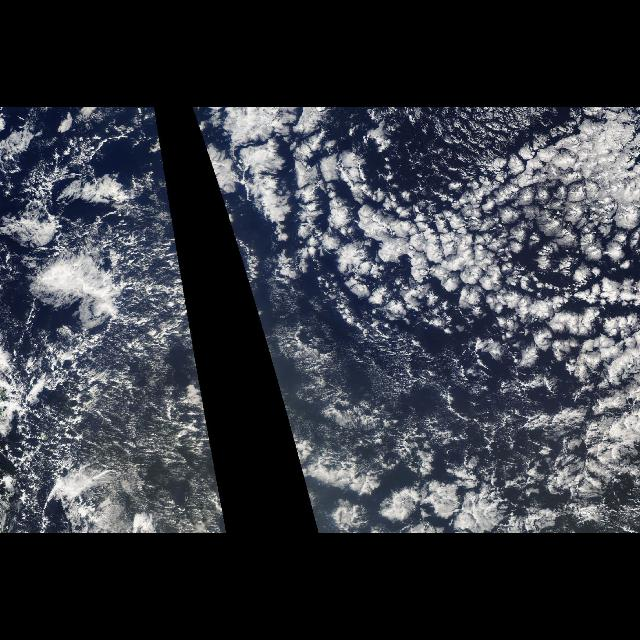Flower: (205, 116, 638, 532), (204, 402, 226, 532)
Gravel: (3, 330, 88, 476)
Sugar: (270, 293, 482, 447)
